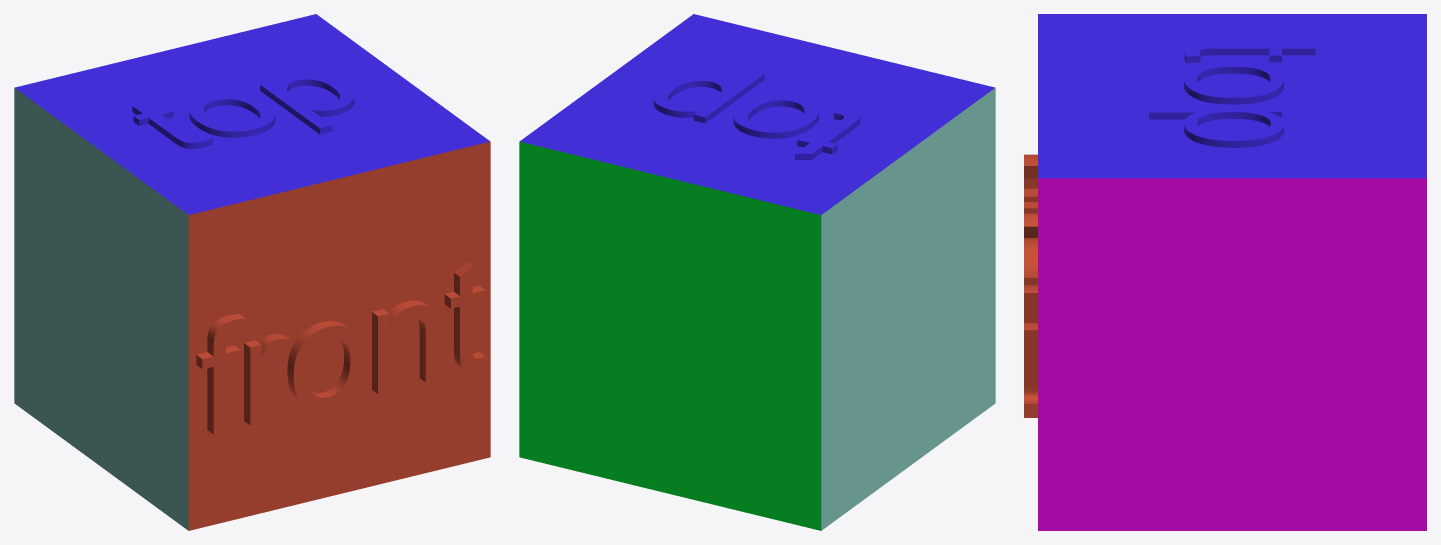
The model's file is kostkaV2_centrum_Kolor.glb.
The picture shows the model from 3 angles, left to right: view 1: azimuth 30°, elevation 25°; view 2: azimuth 150°, elevation 25°; view 3: azimuth 270°, elevation 25°; orthographic projection. The views are drawn at different scales.
Parts seen in each view (by area): view 1: Box001; view 2: Box001; view 3: Box001.
Boxes of the visible parts, <box> form: Box001: <box>14,14,490,530</box>; Box001: <box>519,14,995,530</box>; Box001: <box>1024,14,1426,530</box>.
Bounding box in the file's own units: 1 × 1.02 × 1.04.
